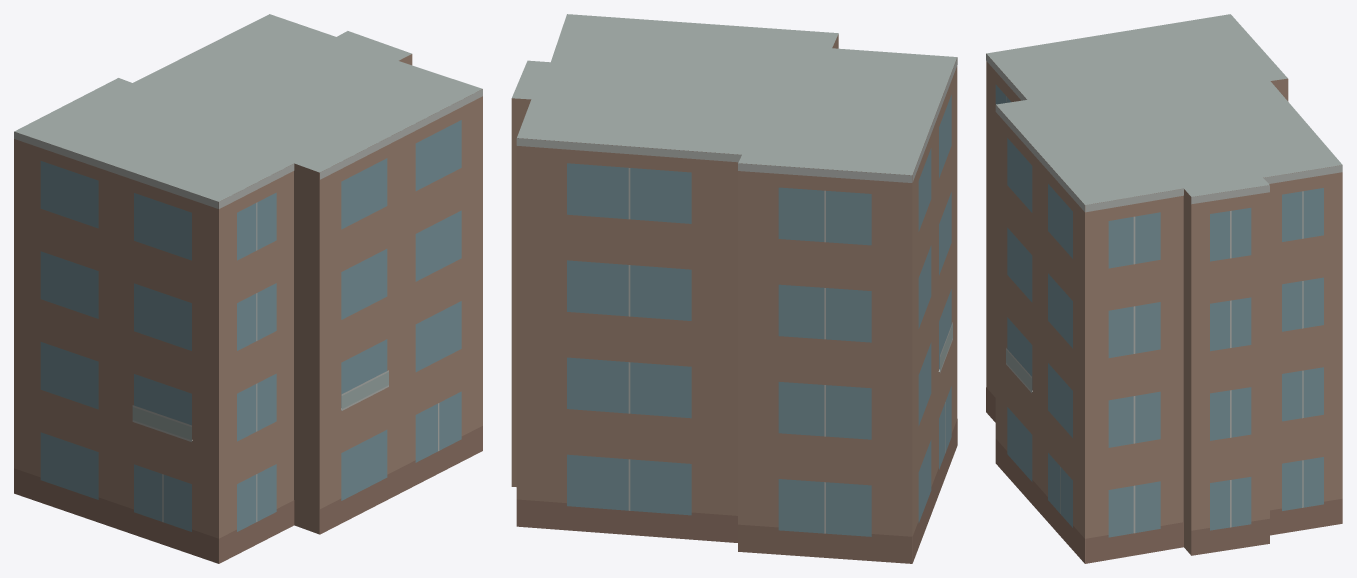
File: survey-upis-32866423.glb
The picture shows the model from 3 angles, left to right: view 1: azimuth 30°, elevation 25°; view 2: azimuth 150°, elevation 25°; view 3: azimuth 270°, elevation 25°; orthographic projection. The views are drawn at different scales.
Parts seen in each view (by area): view 1: survey-upis-32866423.tmp; view 2: survey-upis-32866423.tmp; view 3: survey-upis-32866423.tmp.
Part boxes in pixels (left/top/right/bottom): survey-upis-32866423.tmp: left=14, top=14, right=482, bottom=563; survey-upis-32866423.tmp: left=511, top=14, right=957, bottom=563; survey-upis-32866423.tmp: left=986, top=14, right=1342, bottom=563.
Bounding box in the file's own units: 13.8 × 12.07 × 10.88.
